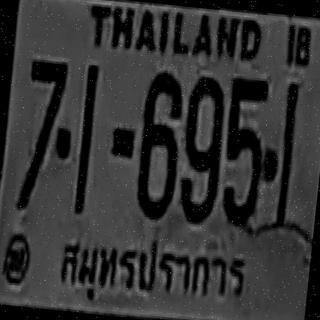N01: (72, 62, 100, 212), (273, 82, 300, 228)
N05: (217, 75, 270, 226)
N06: (132, 68, 184, 219)
N07: (15, 56, 67, 212), (20, 56, 67, 171)
N09: (176, 72, 227, 222)
P57: (54, 224, 258, 314)
